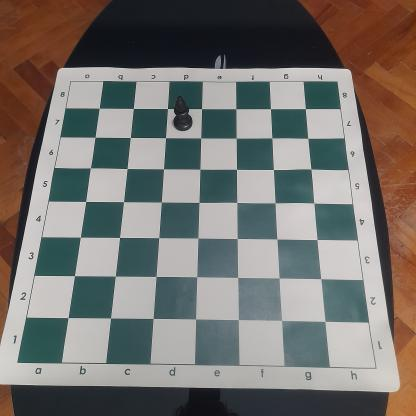black-bishop: (169, 94, 197, 132)
